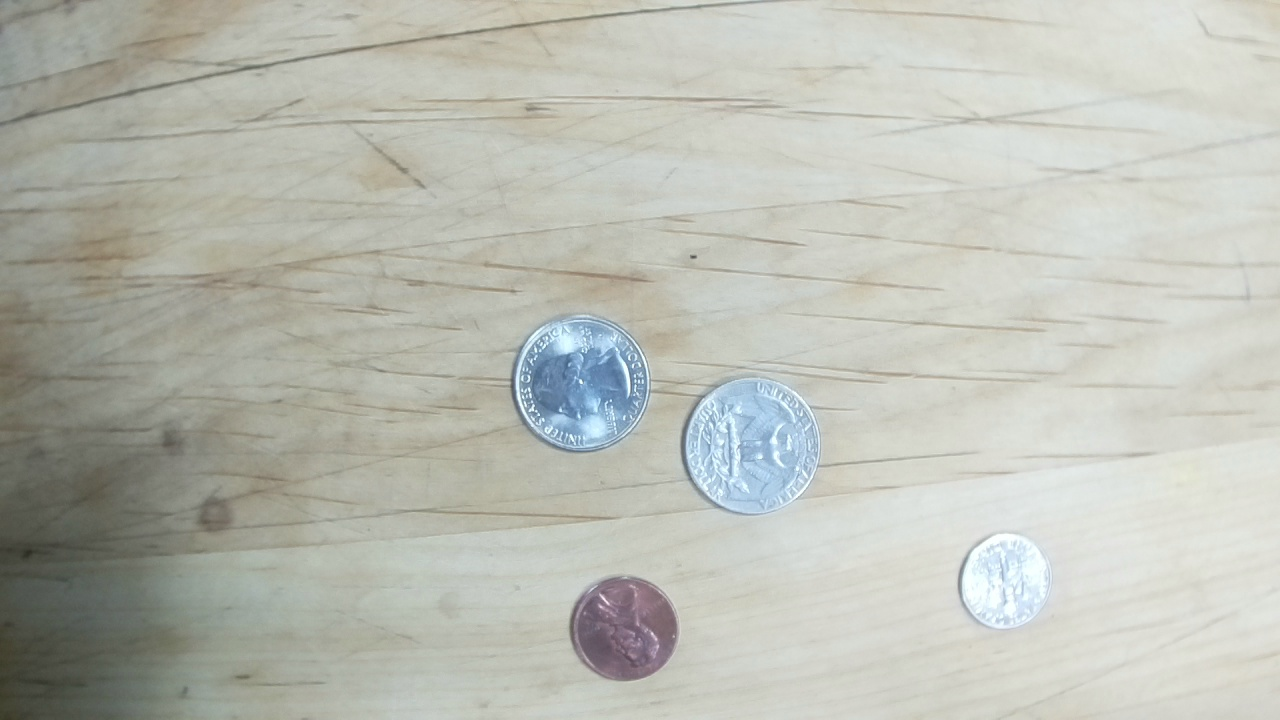dime: (955, 529, 1053, 633)
penny: (566, 572, 682, 682)
quarter: (674, 374, 824, 520), (508, 312, 652, 450)
